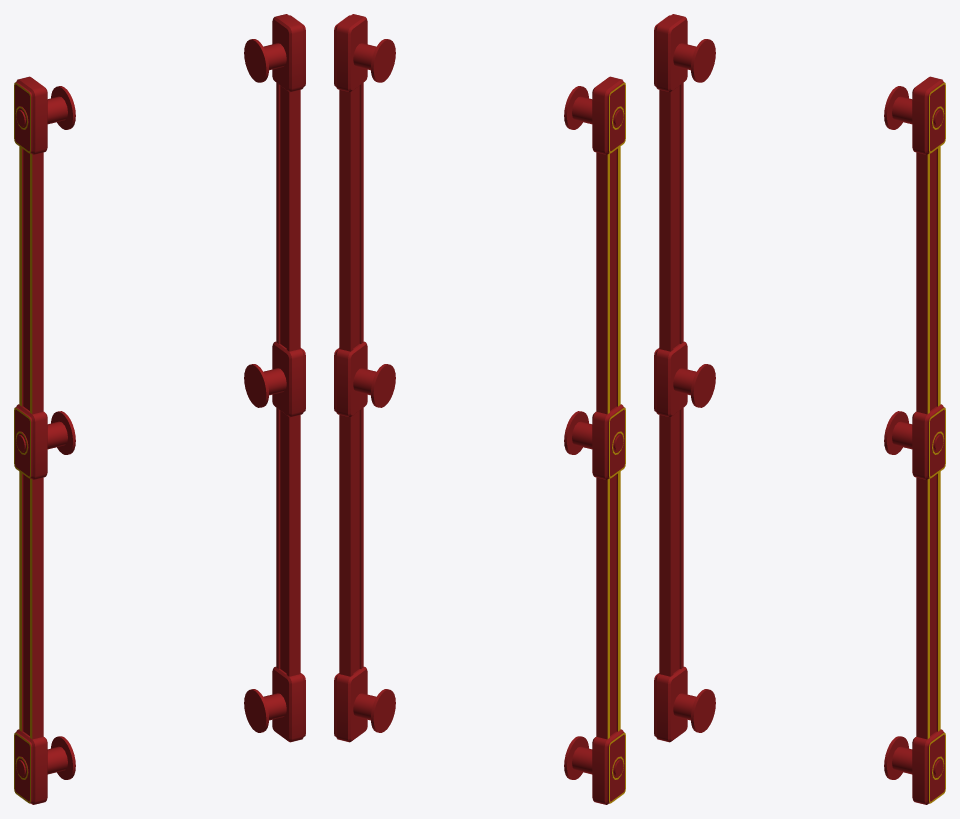
File: SteamLocomotive_01_DriveRod.fbx
3 views of the same model, side by side, from view 1: azimuth 30°, elevation 25°; view 2: azimuth 150°, elevation 25°; view 3: azimuth 330°, elevation 25° (orthographic).
Visible parts, largest first — view 1: SteamLocomotive_01_DriveRod; view 2: SteamLocomotive_01_DriveRod; view 3: SteamLocomotive_01_DriveRod.
Boxes of the visible parts, bbox=[...] form: SteamLocomotive_01_DriveRod: bbox=[14, 14, 305, 804]; SteamLocomotive_01_DriveRod: bbox=[334, 14, 625, 804]; SteamLocomotive_01_DriveRod: bbox=[654, 14, 945, 804].
Bounding box in the file's own units: 1.98 × 4.84 × 0.273.
